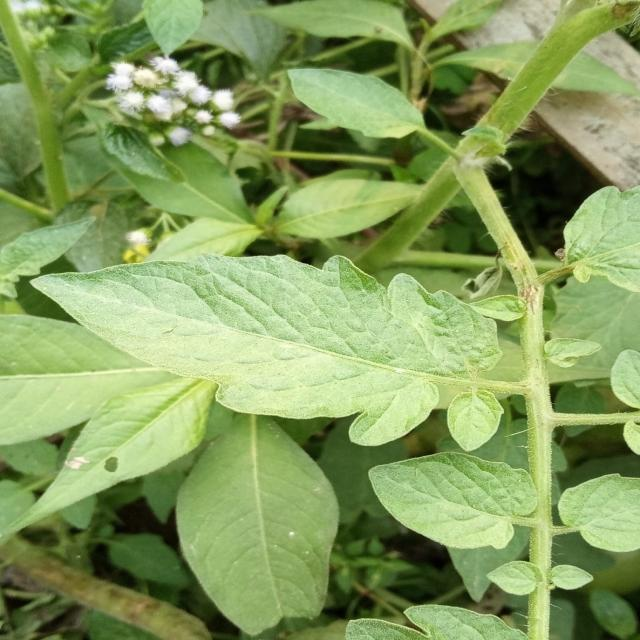Healthy: (15, 181, 515, 474), (362, 444, 541, 555)
